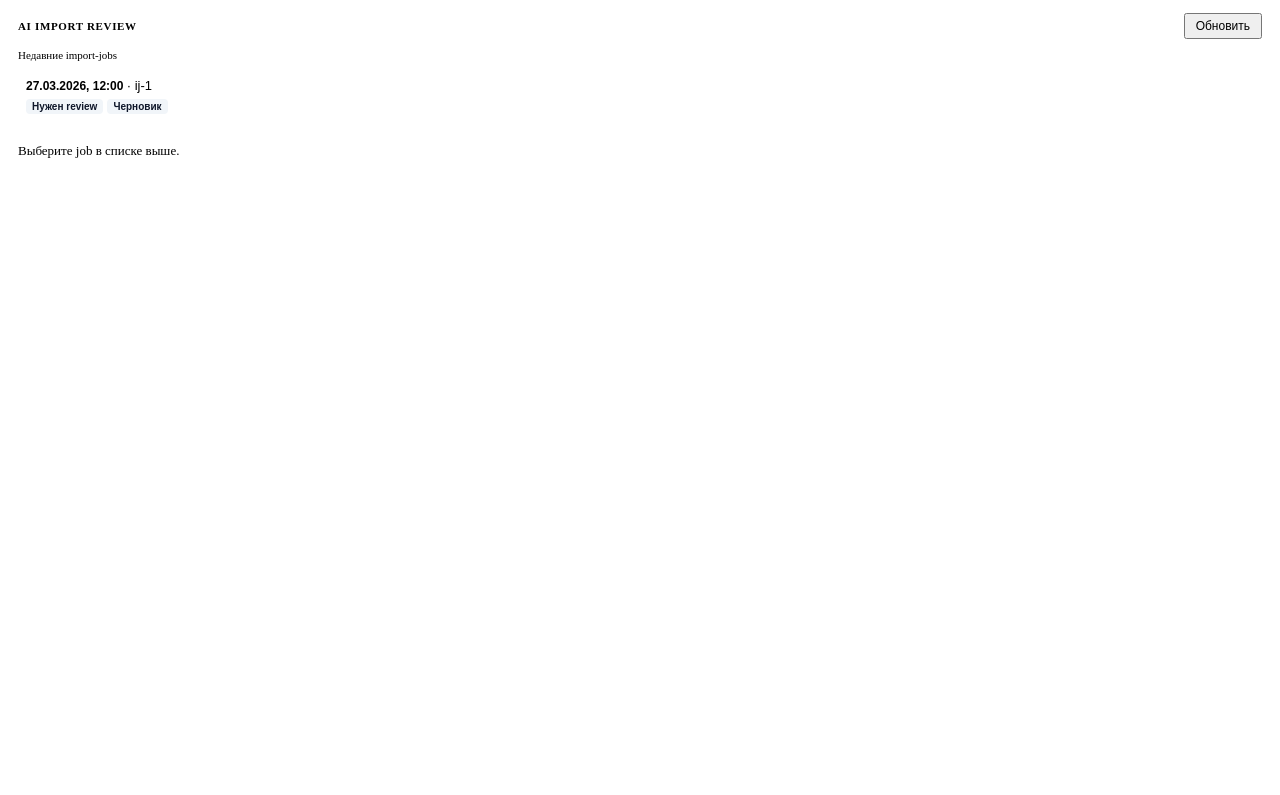
Test: ImportReviewPanel integration › apply review calls API when decisions complete
Later steps or results of the test are not shown.
Click the button with test id "ir-job-row-ij-1".
click(75, 86)  # box x1=18 y1=70 x2=1262 y2=124
(page scrolled)
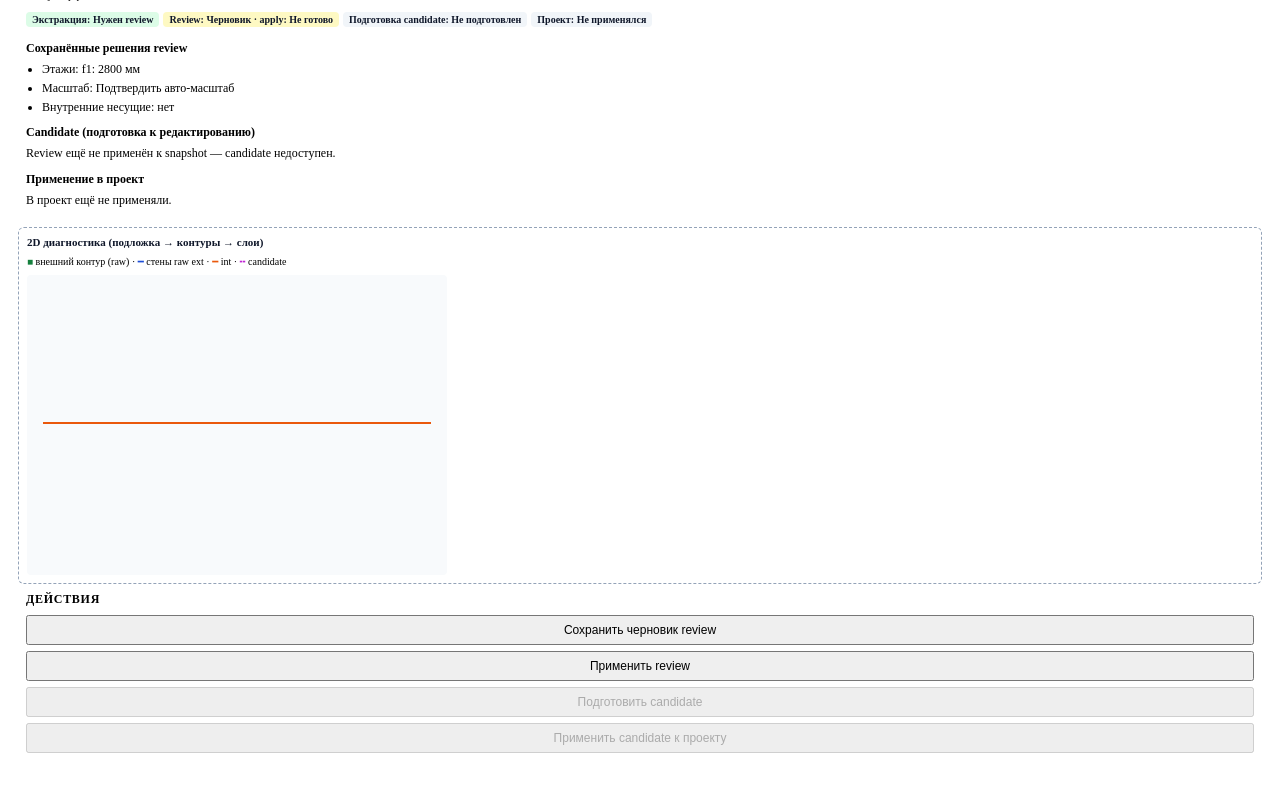
Check: the button with test id "ir-apply-review" is shown, box x1=26 y1=651 x2=1254 y2=681
